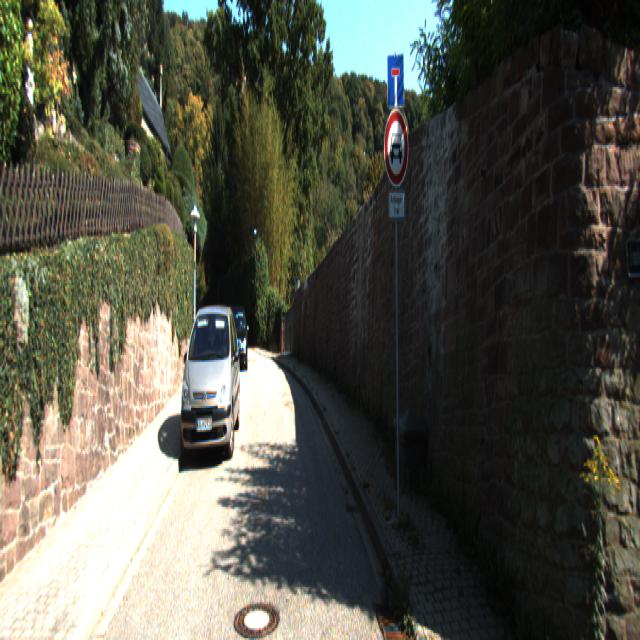Car: (178, 297, 242, 472), (223, 305, 249, 376)
